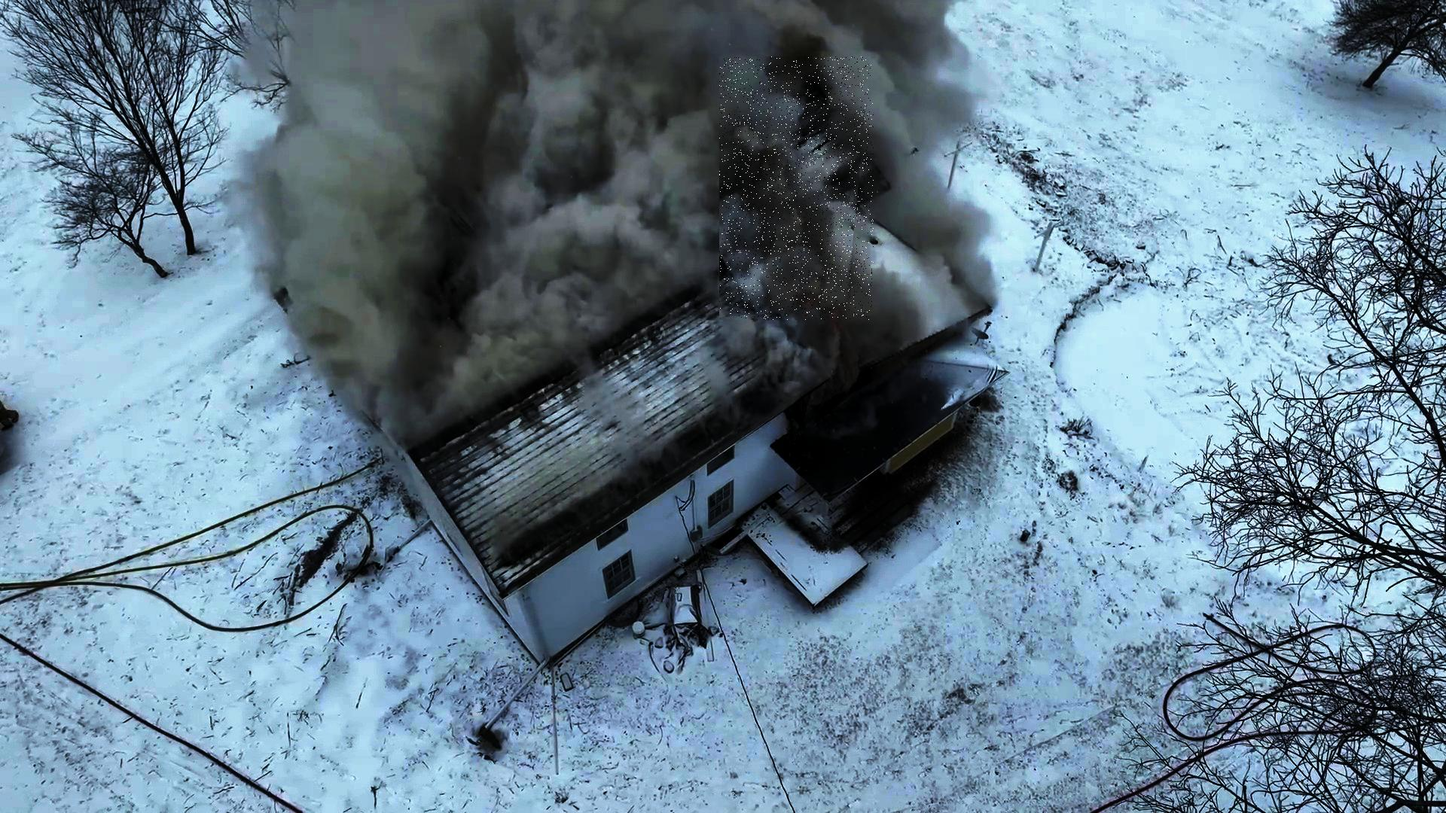smoke: (720, 57, 874, 320)
